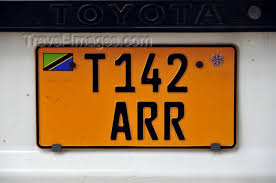T: (80, 50, 110, 97)
